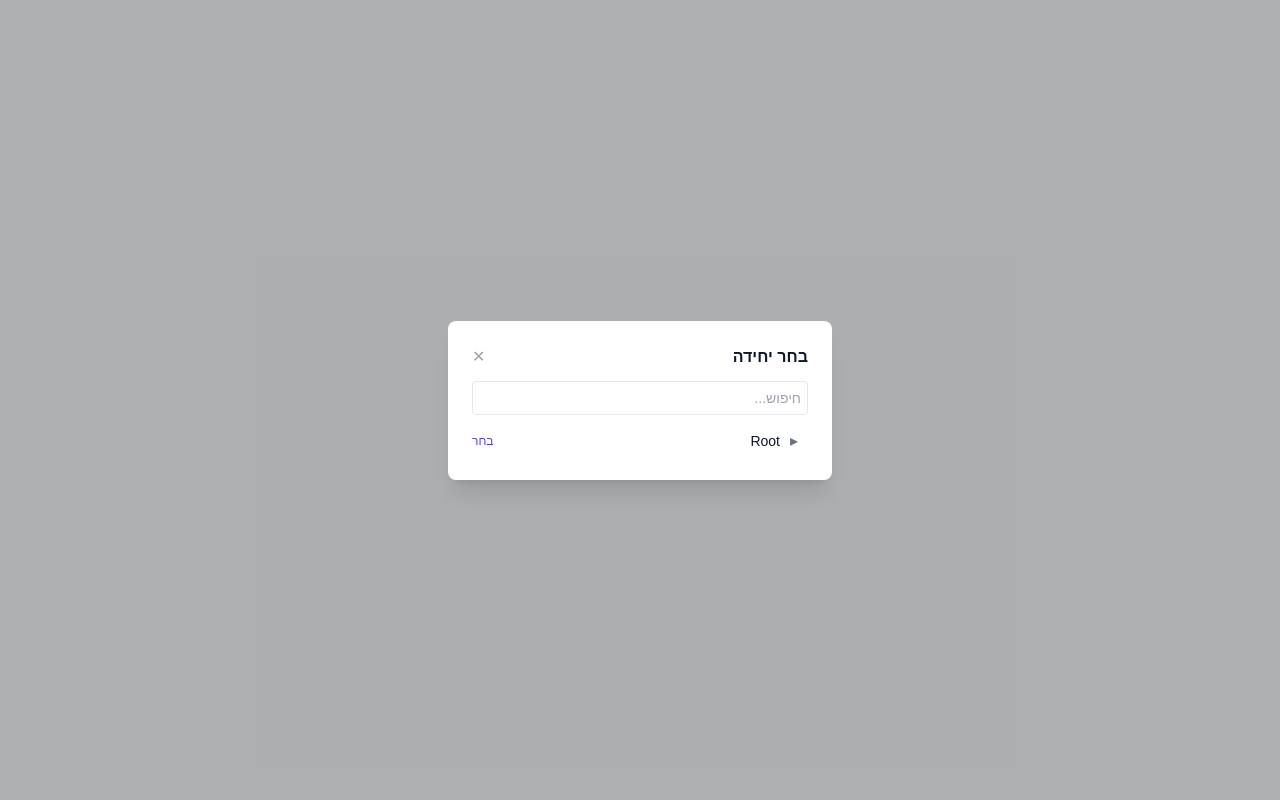
it: HierarchyNodePickerModal › continues a branch page with an accessible load-more control
Expected: the text "Root" is shown, [750,430,780,450]
Click the button with test id "picker-tree-toggle-root-1".
click(794, 440)  # box [784,430,804,450]
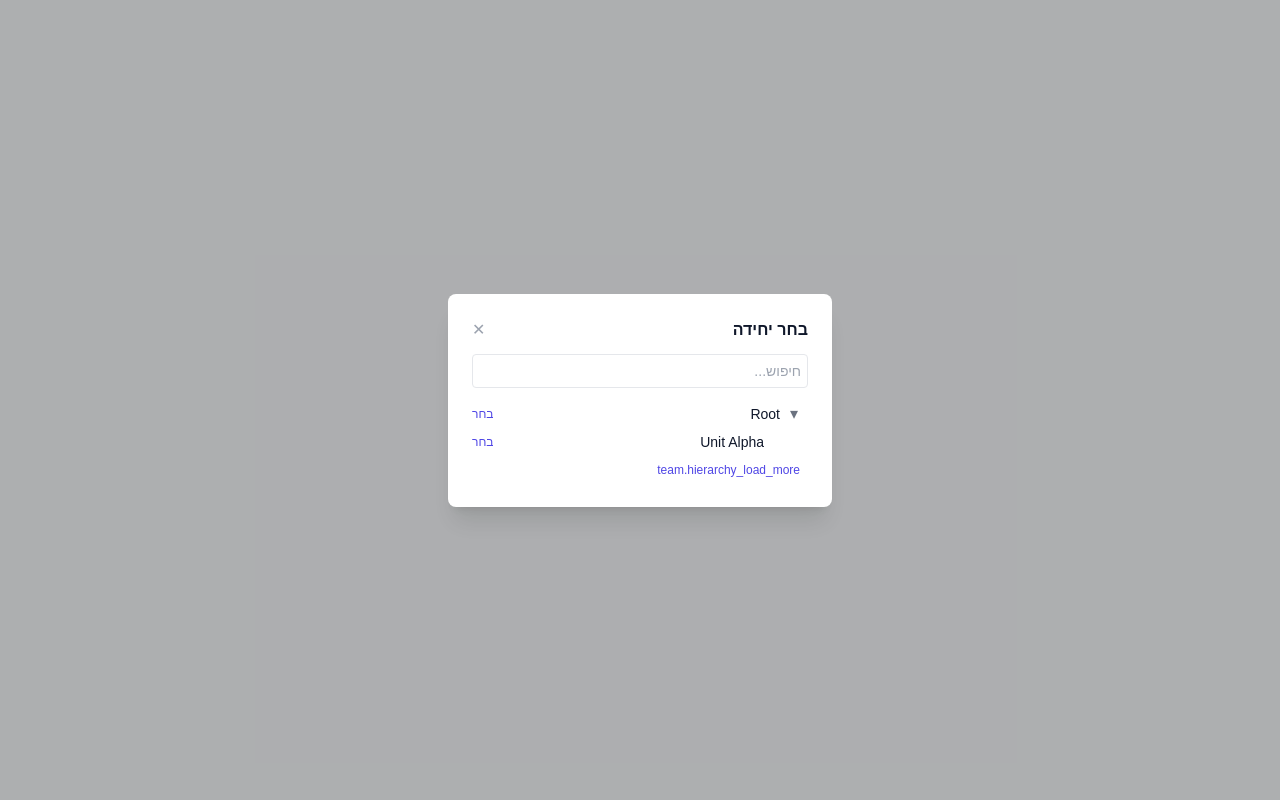
Now the text "Unit Alpha" is shown, box [700,432,764,452]
Now the button "team.hierarchy_load_more" is enabled
Click the button "team.hierarchy_load_more".
click(729, 470)  # box [649,458,808,482]
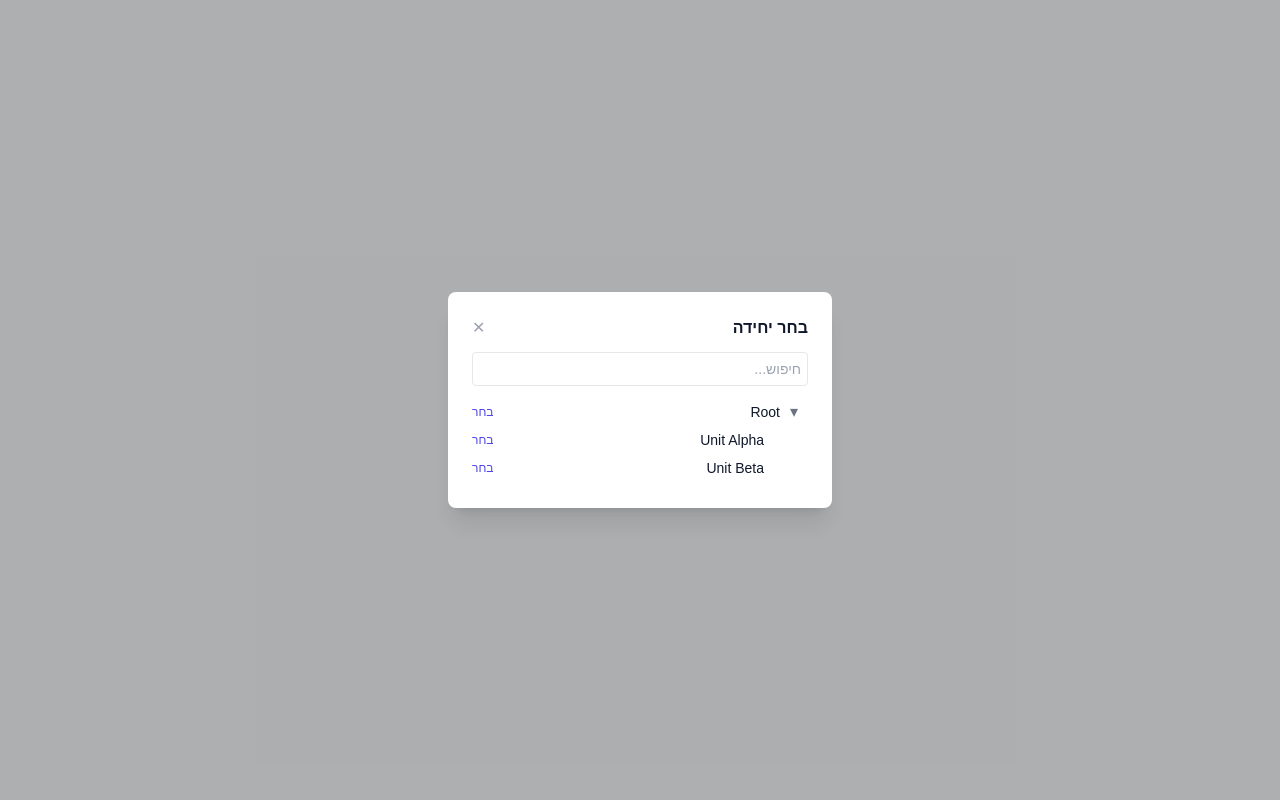
Now the text "Unit Beta" is shown, box [706,458,764,478]
